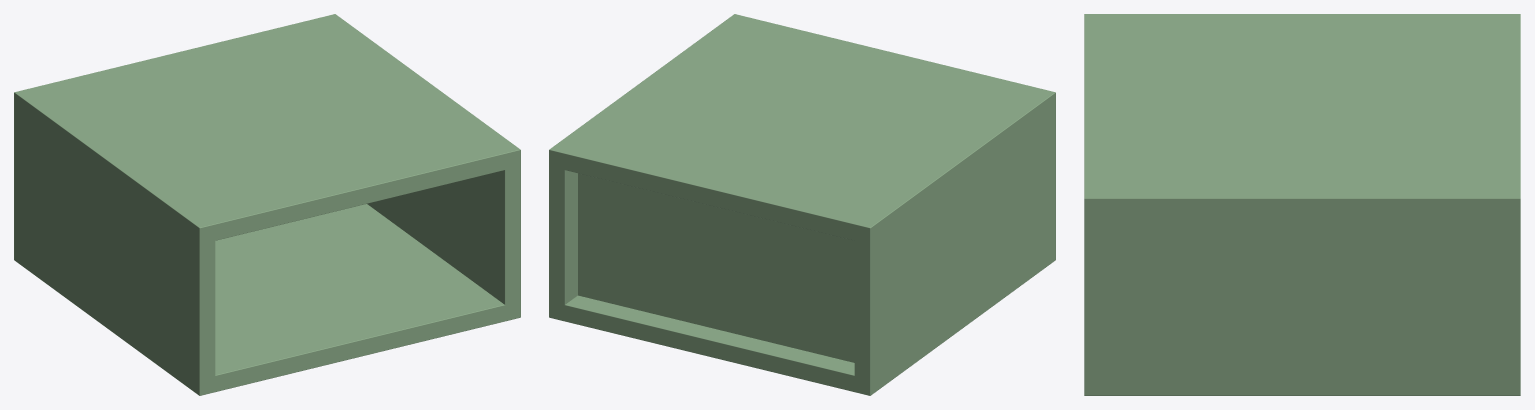
File: MOD-1X05-A-B-SA.glb
3 renders of one model, left to right at view 1: azimuth 30°, elevation 25°; view 2: azimuth 150°, elevation 25°; view 3: azimuth 270°, elevation 25°, orthographic. The views are drawn at different scales.
Bounding box in the file's own units: 360 × 180 × 360.
